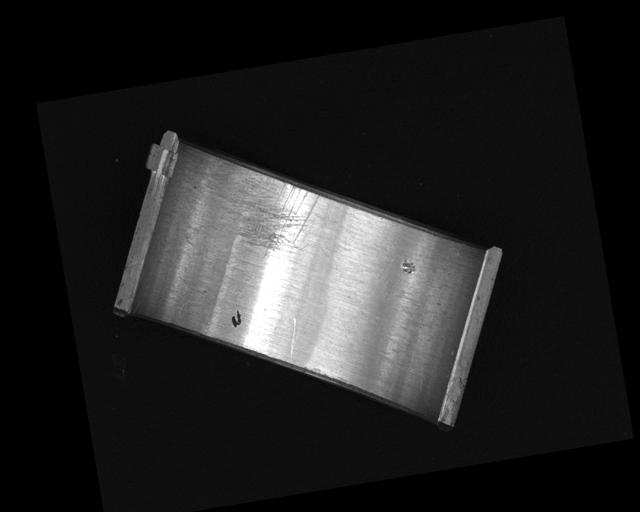blot: (228, 309, 242, 329)
bruise: (398, 255, 416, 276)
nick: (283, 316, 302, 360)
scratch: (211, 141, 327, 264)
